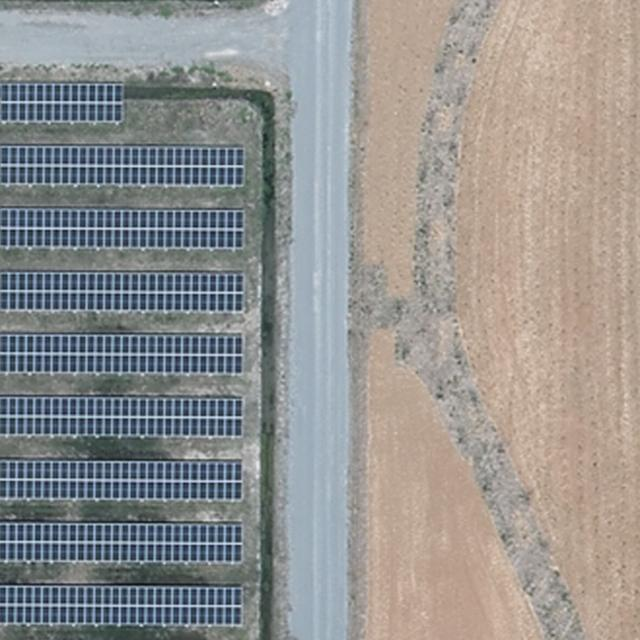panel: (0, 144, 245, 188), (3, 271, 247, 315), (0, 395, 243, 439), (0, 520, 243, 564), (0, 586, 243, 630), (1, 459, 243, 503), (0, 208, 244, 250), (0, 332, 243, 374), (0, 82, 124, 125)
